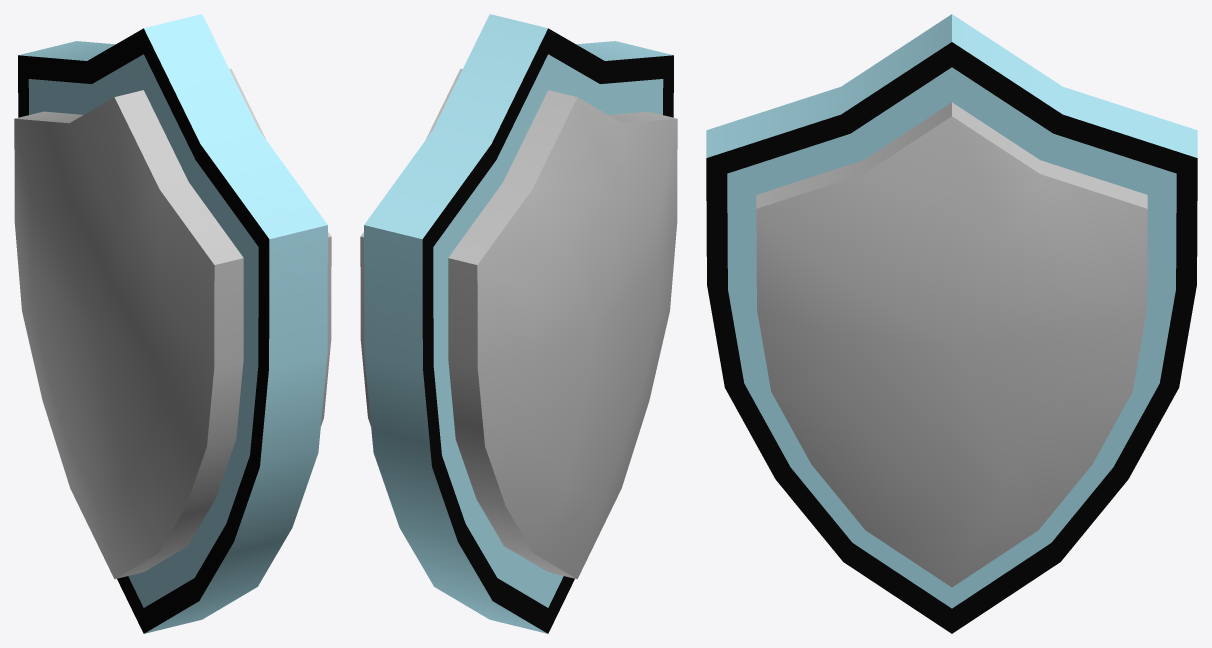
File: SHELD_PASSIVE.fbx
The picture shows the model from 3 angles, left to right: view 1: azimuth 30°, elevation 25°; view 2: azimuth 150°, elevation 25°; view 3: azimuth 270°, elevation 25°; orthographic projection. The views are drawn at different scales.
Parts seen in each view (by area): view 1: Icon_Sheild1; view 2: Icon_Sheild1; view 3: Icon_Sheild1.
Boxes of the visible parts, x1,y1,x2,y2 form: Icon_Sheild1: (14,14,331,633); Icon_Sheild1: (360,14,677,633); Icon_Sheild1: (706,14,1197,633).
Size of the model in its own units: 2.62 by 9.9 by 7.45.
